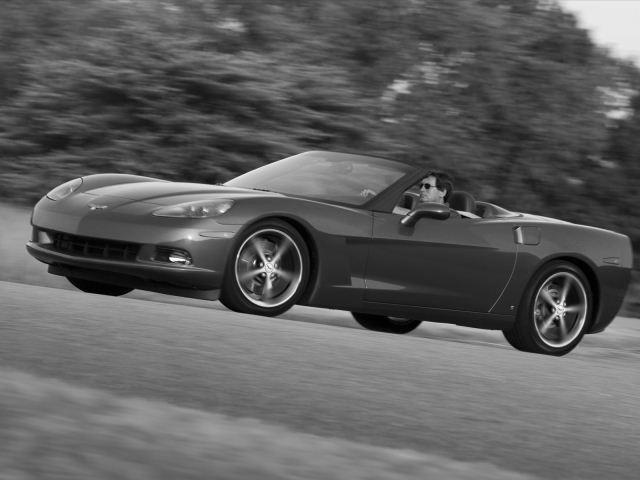car: (27, 146, 633, 357)
